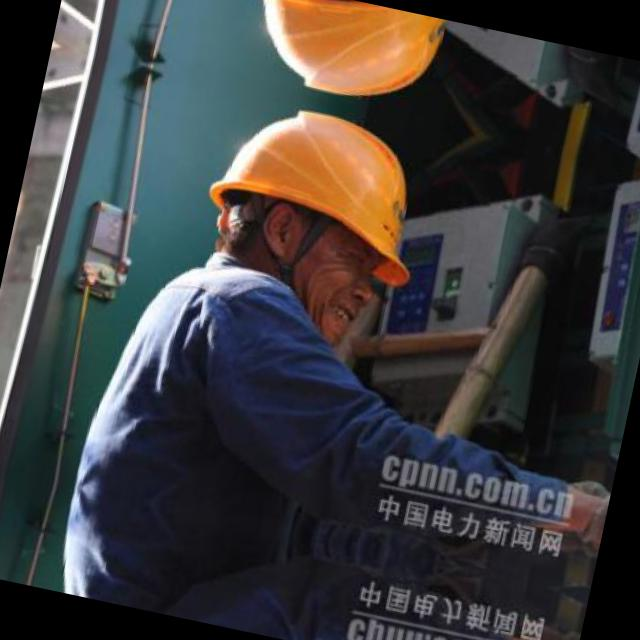helmet: (165, 81, 451, 362), (214, 0, 475, 129)
